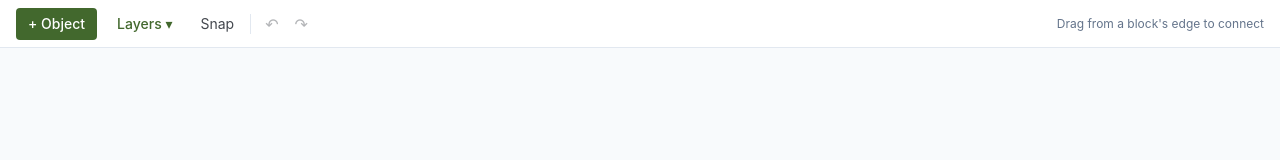
ArchitectureCanvas › layers popover › leaves Escape to the add input rather than closing the popover
This screenshot has width=1280, height=160.
Click the button "Layers ▾" at coordinates (145, 24), box 105,8 -> 184,40
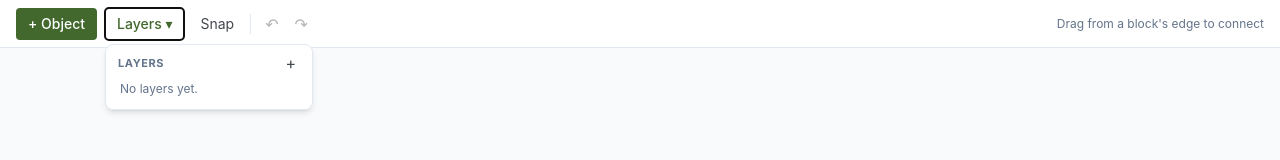
Click the button named "New layer" at coordinates (291, 62), box 282,54 -> 300,70
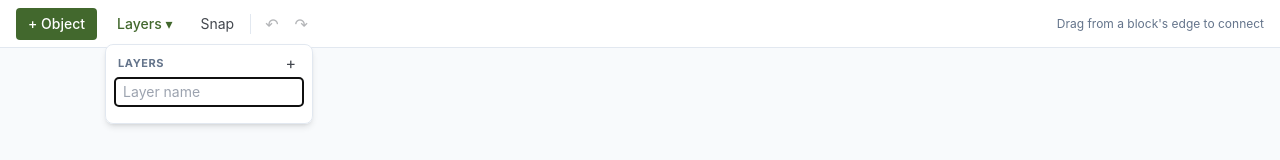
Press Escape
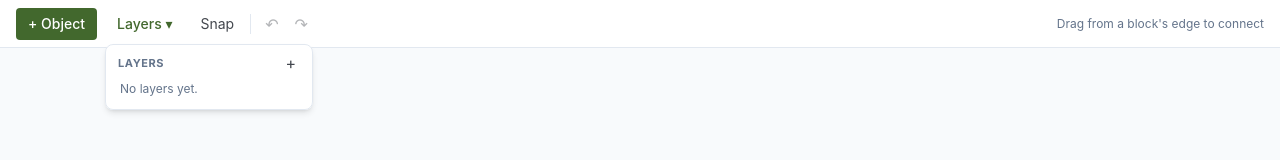
Expected: the field with placeholder "Layer name" is not shown
Result: the text "No layers yet." is shown at 120,80 -> 198,96
